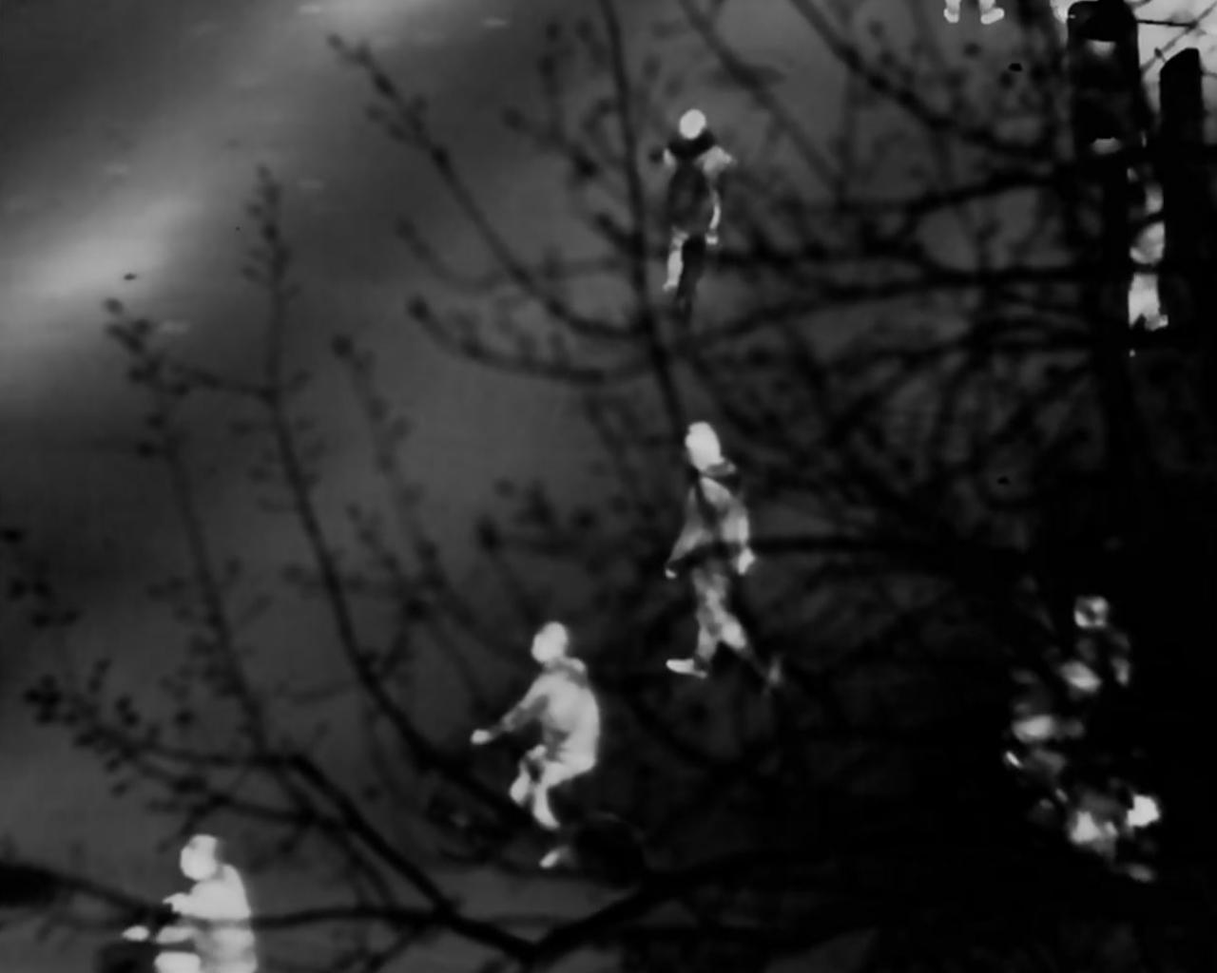person: (488, 614, 608, 835), (1037, 586, 1144, 811), (673, 412, 757, 683), (134, 837, 247, 973), (1111, 160, 1187, 355), (658, 96, 728, 296)
